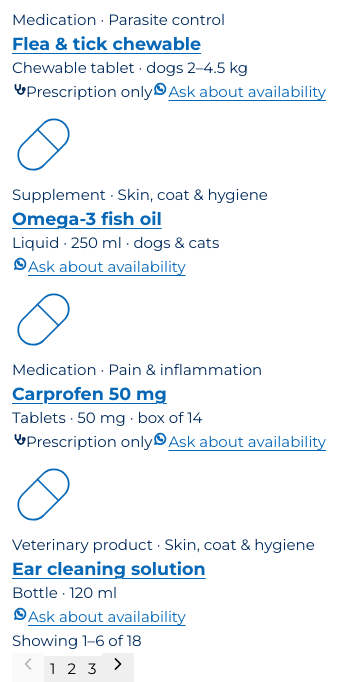
Scenario: ProductCatalog › goes to the next page
(page scrolled)
Step 1. Click the button named "next" → click(118, 667), box x1=102 y1=653 x2=134 y2=681
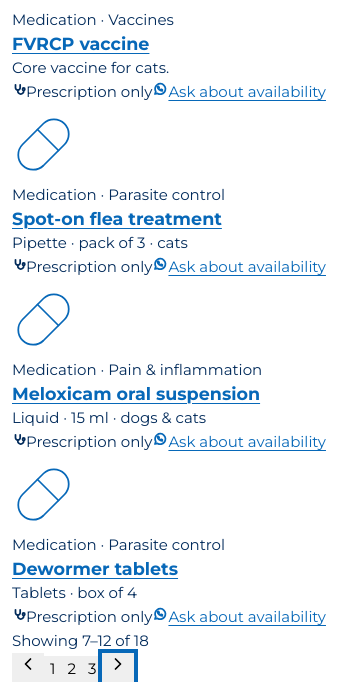
Result: the text "Showing 7–12 of 18" is shown at x1=12 y1=631 x2=149 y2=650
